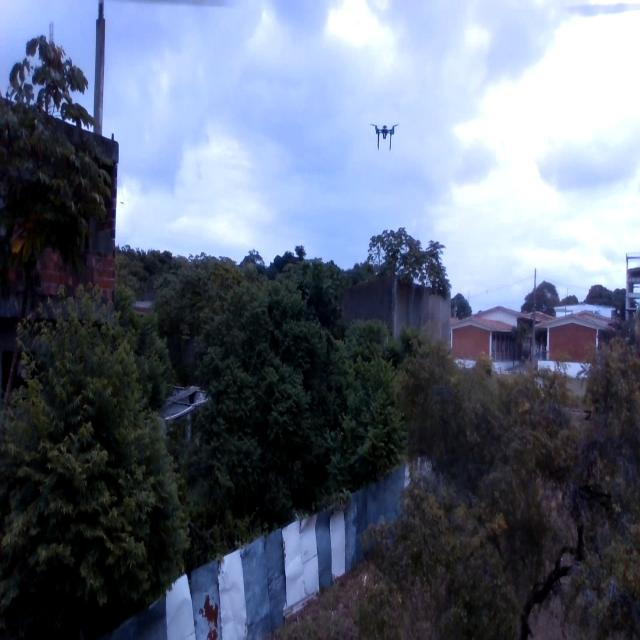-uav-: (365, 115, 405, 158)
